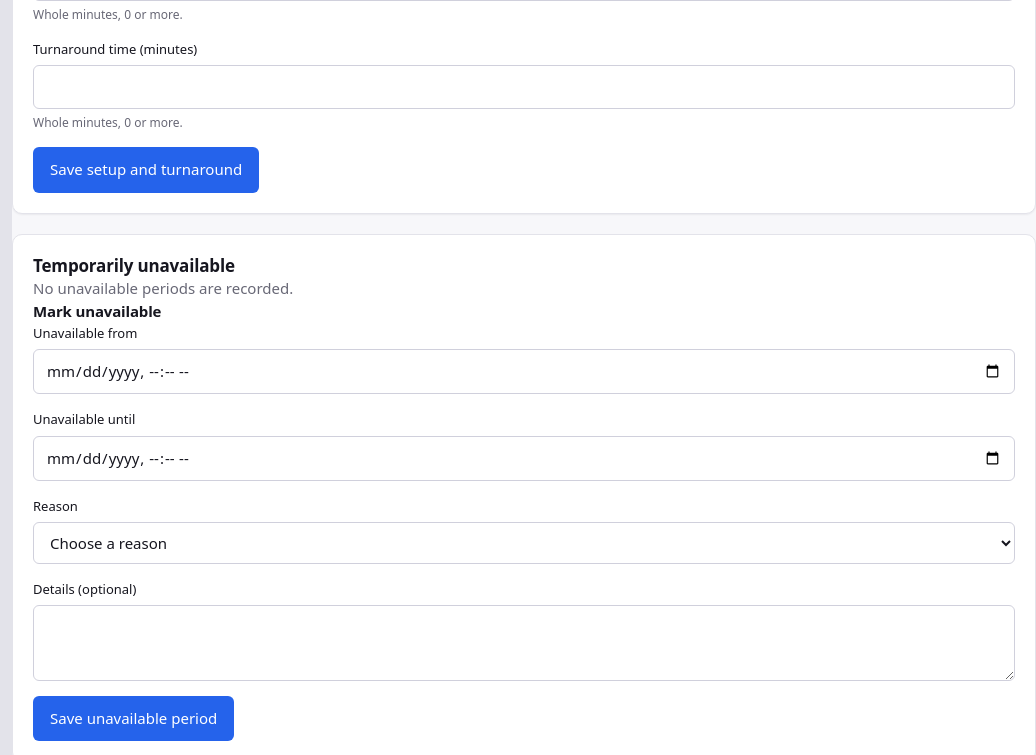
Test case: SCRUM-93 unavailable periods › ac1 saves a period with start, end and reason
(page scrolled)
Type "2030-11-02T08:00" into the field labelled "Unavailable from" at (524, 372), box [33,349,1015,394]
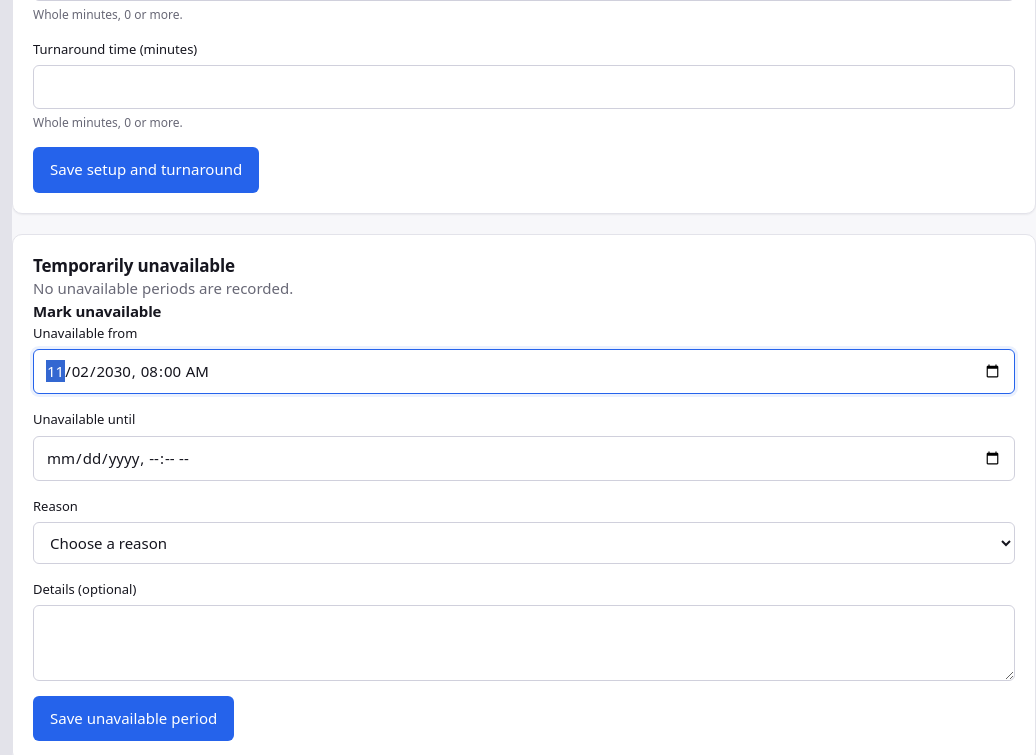
Type "2030-11-02T18:00" into the field labelled "Unavailable until" at (524, 458), box [33,436,1015,481]
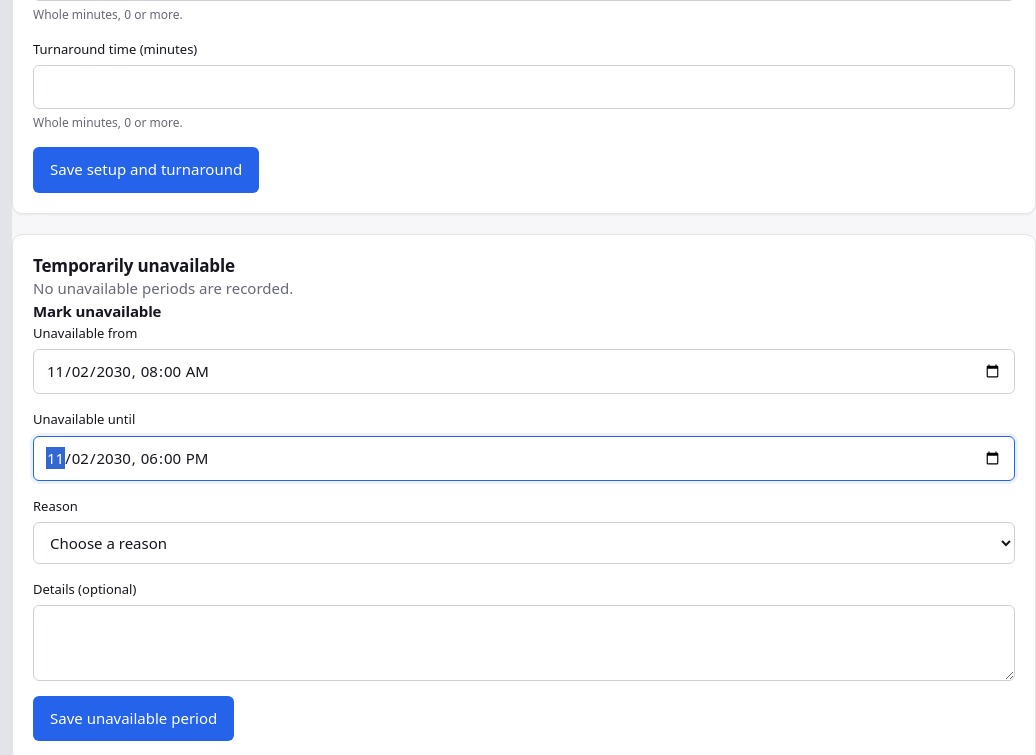
Select "Renovation" in the dropdown labelled "Reason" at (524, 543), box [33,522,1015,564]
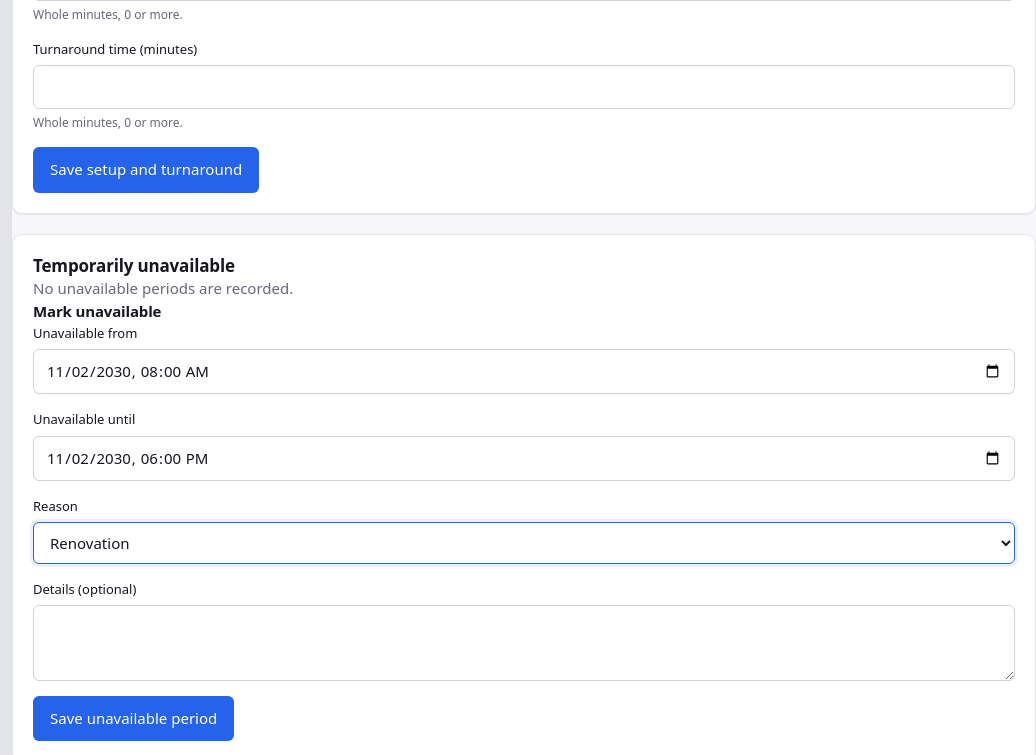
Click the button "Save unavailable period" at (134, 719), box [33,696,234,742]
(page scrolled)
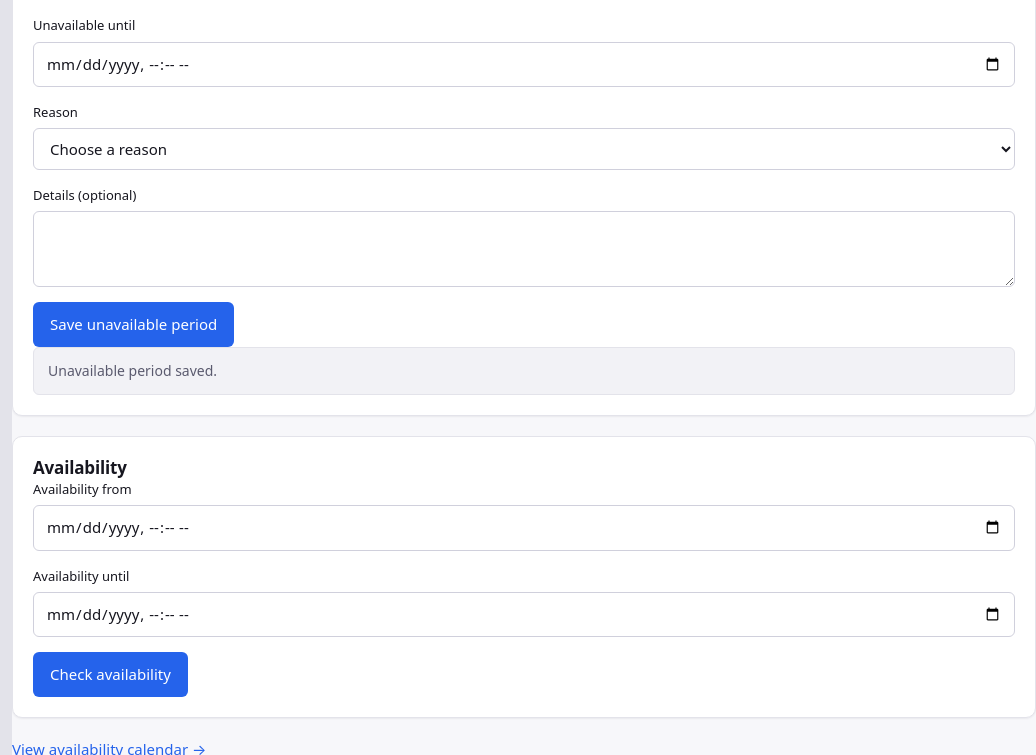
Now the message reads "Unavailable period saved.", box [48,361,217,380]
